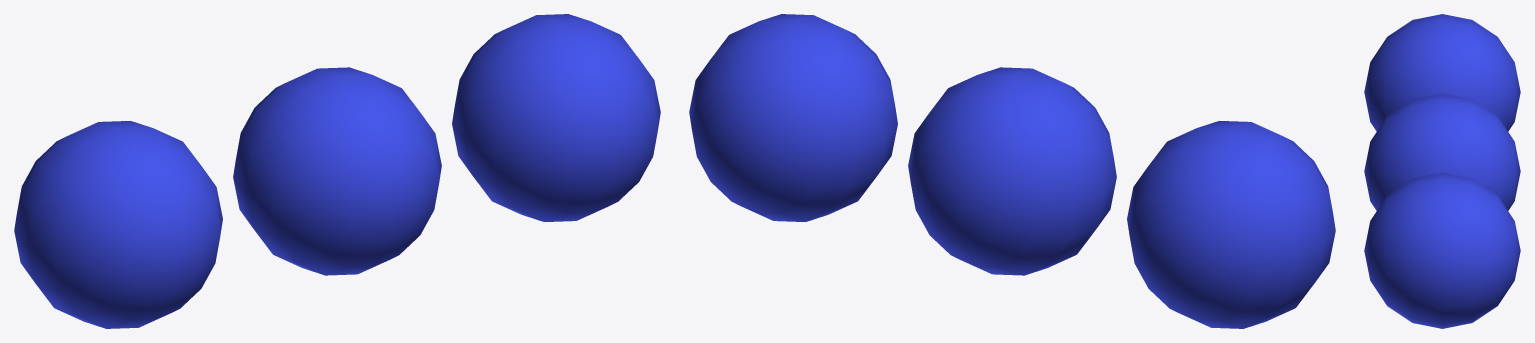
The model's file is pbr_scene.gltf.
3 renders of one model, left to right at view 1: azimuth 30°, elevation 25°; view 2: azimuth 150°, elevation 25°; view 3: azimuth 270°, elevation 25°, orthographic. The views are drawn at different scales.
Visible parts, largest first — view 1: Sphere.001, Sphere, Sphere.002; view 2: Sphere.001, Sphere, Sphere.002; view 3: Sphere.002, Sphere, Sphere.001.
Part boxes in pixels (x1,y1,x2,y2): Sphere.001: [233, 67, 441, 275]; Sphere: [14, 121, 222, 328]; Sphere.002: [452, 14, 660, 221]; Sphere.001: [908, 67, 1116, 275]; Sphere: [1127, 121, 1335, 328]; Sphere.002: [689, 14, 897, 221]; Sphere.002: [1364, 172, 1520, 328]; Sphere: [1364, 14, 1520, 131]; Sphere.001: [1364, 93, 1520, 210].
Size of the model in its own units: 1.7 by 0.5 by 0.5.
